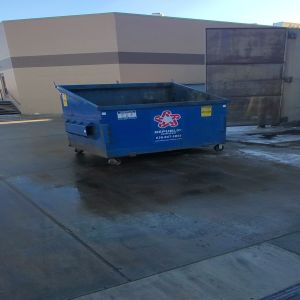Dumpster: (52, 79, 231, 166)
